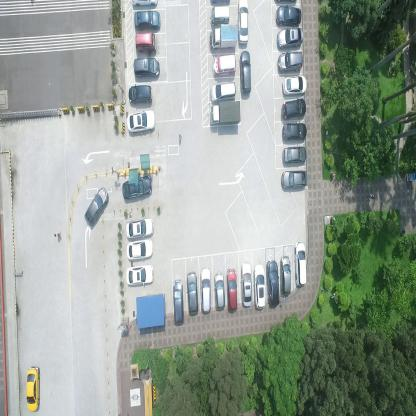car: (84, 186, 109, 227), (208, 100, 242, 128), (126, 108, 156, 135), (122, 174, 152, 200), (209, 25, 238, 51), (125, 262, 154, 288), (126, 215, 154, 241), (209, 81, 237, 105), (26, 364, 40, 412), (266, 259, 280, 307), (125, 238, 154, 261), (294, 239, 307, 288), (199, 266, 212, 314), (276, 27, 304, 49), (133, 10, 161, 32), (281, 169, 307, 192), (134, 56, 160, 79), (253, 263, 266, 309), (212, 54, 236, 78), (240, 260, 252, 308), (277, 51, 303, 73), (282, 98, 306, 121), (237, 0, 249, 46), (226, 266, 238, 312), (282, 74, 307, 96), (186, 271, 198, 316), (283, 144, 307, 166), (128, 84, 152, 106), (173, 278, 184, 326), (275, 5, 302, 24), (240, 49, 251, 94), (135, 31, 157, 53), (282, 122, 308, 140), (209, 5, 230, 27), (280, 256, 291, 298), (214, 270, 225, 310), (132, 0, 158, 8)
